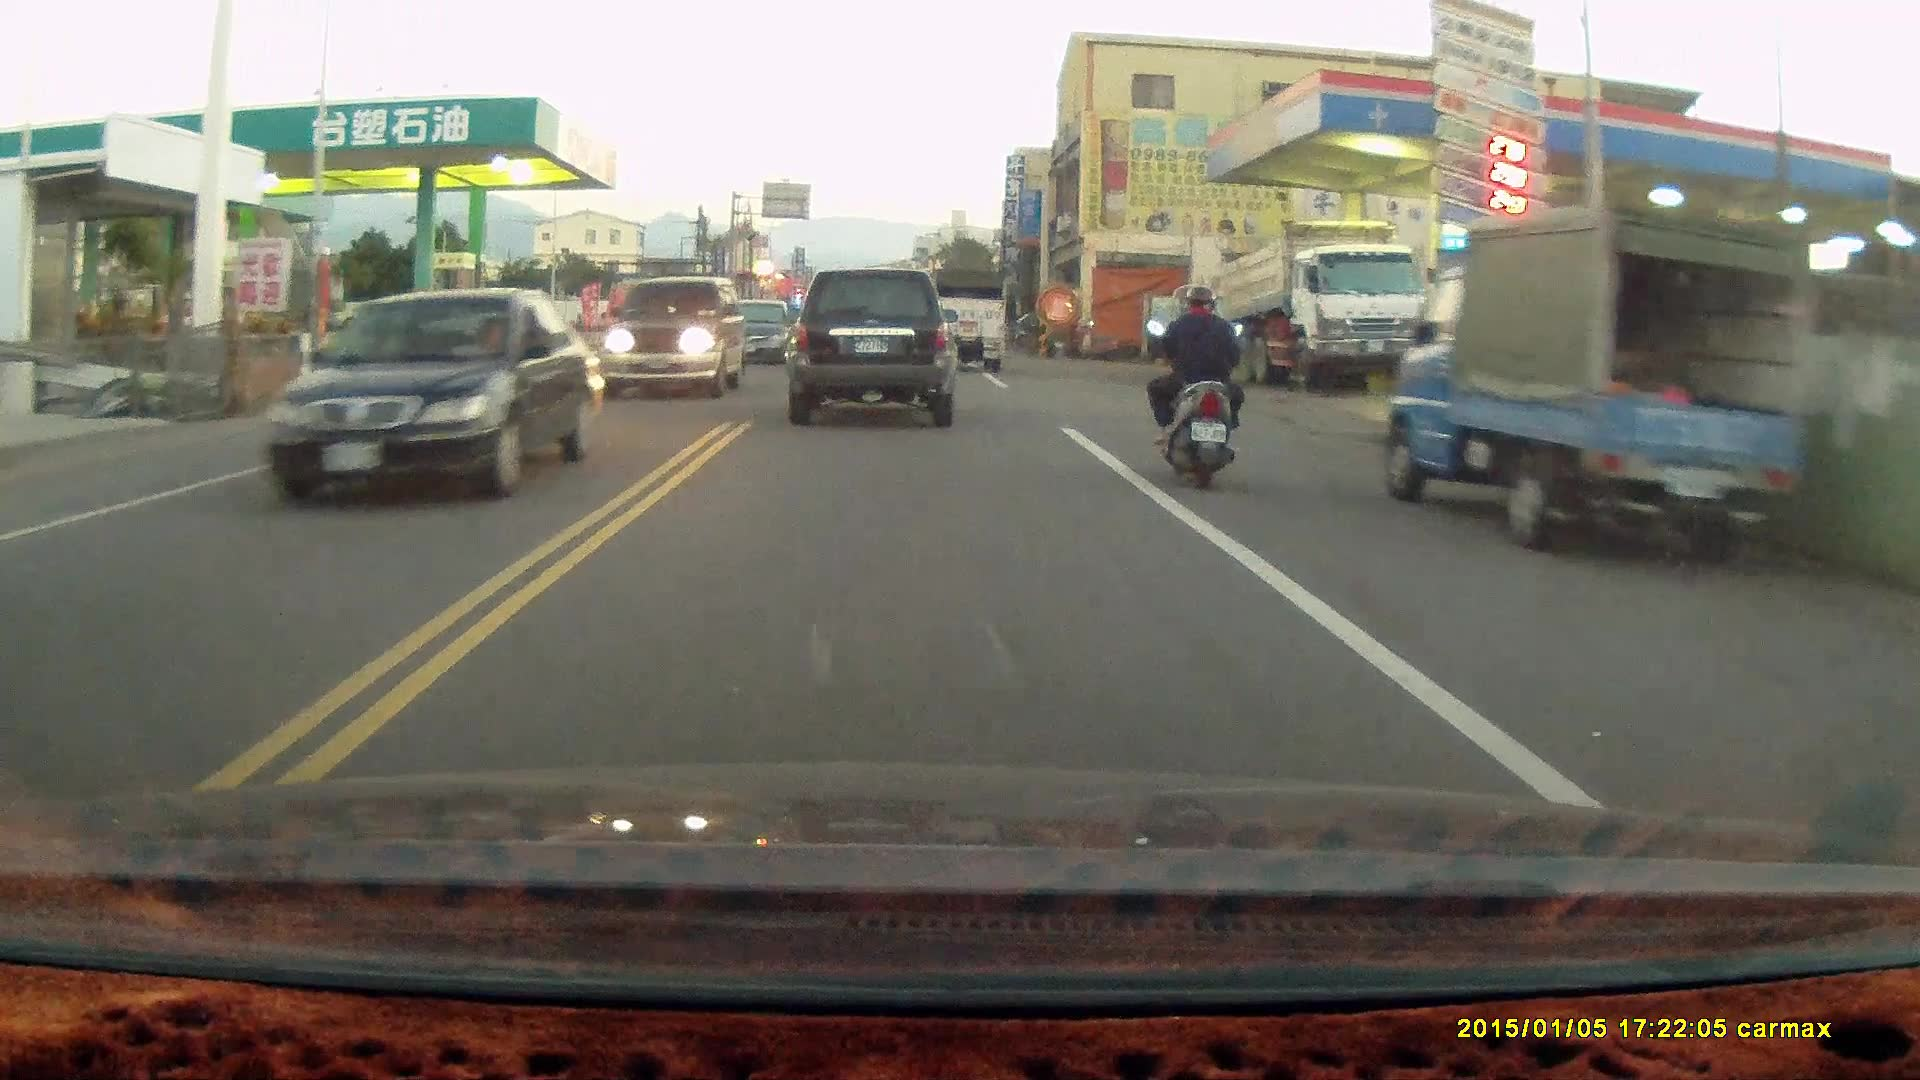rider: (1144, 283, 1247, 491)
vehicle: (1386, 197, 1827, 554), (252, 286, 596, 505), (1200, 204, 1424, 382), (789, 264, 956, 420), (610, 268, 750, 394), (917, 258, 1010, 369), (712, 298, 806, 367)
